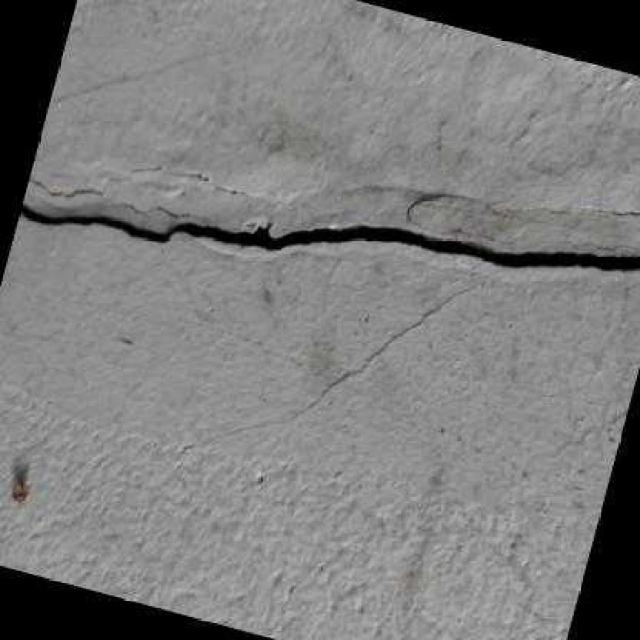D00: (17, 199, 640, 271)
